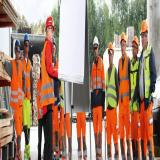Helmet: (45, 17, 55, 34), (132, 34, 139, 55), (120, 31, 127, 48), (141, 20, 148, 35), (93, 35, 99, 50), (14, 40, 21, 51), (24, 32, 30, 44), (108, 42, 114, 54), (52, 36, 56, 45)
Vest: (41, 41, 55, 113), (140, 43, 152, 107), (10, 58, 23, 109), (119, 54, 130, 107), (130, 58, 140, 110), (105, 68, 116, 111), (21, 55, 31, 101)
